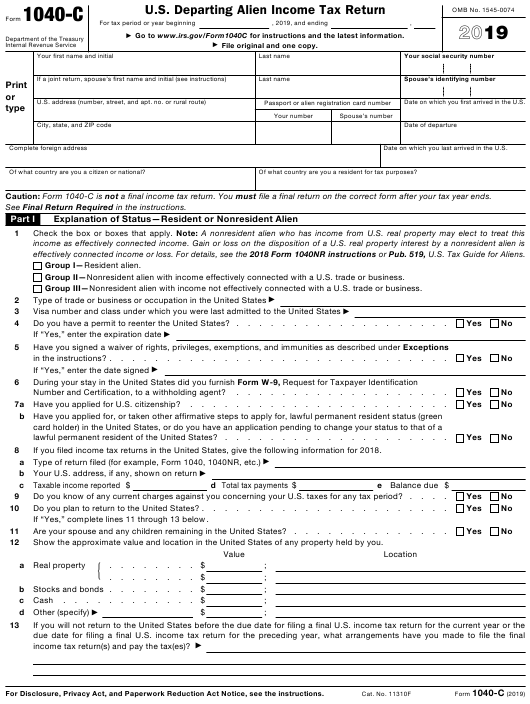checkbox: (454, 317, 467, 329), (488, 317, 501, 329), (488, 352, 501, 364), (453, 351, 466, 363), (453, 386, 466, 398), (488, 386, 501, 398), (487, 398, 500, 410), (453, 398, 466, 410), (453, 432, 466, 444), (488, 432, 501, 444), (487, 490, 500, 502), (453, 490, 466, 502), (453, 502, 466, 514), (487, 502, 500, 514), (488, 526, 501, 538), (453, 525, 466, 537)
textbox: (1, 141, 384, 169), (253, 165, 530, 192), (1, 165, 259, 192), (30, 49, 259, 79), (31, 72, 257, 101), (31, 95, 257, 124), (32, 118, 258, 147), (378, 140, 530, 170), (252, 49, 402, 77), (253, 73, 403, 101), (397, 49, 529, 78), (398, 72, 530, 101), (398, 95, 530, 124), (398, 118, 530, 147), (252, 119, 335, 147), (328, 118, 404, 147)
textline: (30, 654, 527, 666), (30, 666, 527, 678), (161, 366, 529, 378), (174, 331, 530, 343), (204, 643, 527, 656), (209, 470, 529, 482), (273, 562, 529, 576), (278, 296, 529, 308), (273, 458, 530, 469), (274, 575, 529, 586), (273, 586, 528, 597), (273, 598, 528, 609), (273, 609, 528, 620), (352, 308, 530, 319), (328, 16, 410, 31), (98, 608, 196, 619), (198, 17, 271, 31), (296, 481, 375, 493), (451, 480, 530, 492), (131, 480, 209, 492), (205, 561, 264, 573), (204, 584, 263, 596), (204, 571, 263, 583), (206, 597, 265, 609), (205, 608, 264, 620), (412, 16, 439, 31)
